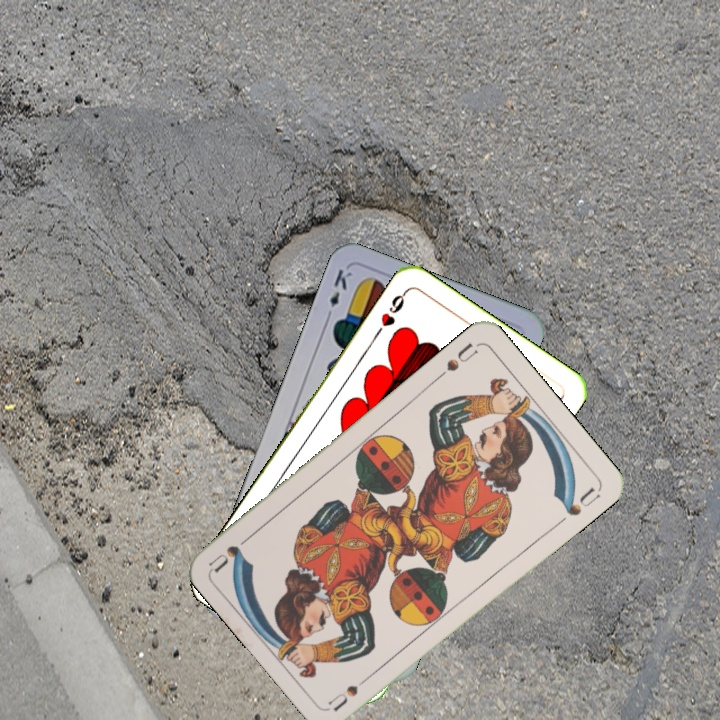EK: (321, 265, 355, 323)
H9: (371, 287, 410, 339)
SU: (324, 668, 377, 714), (432, 339, 481, 383)
